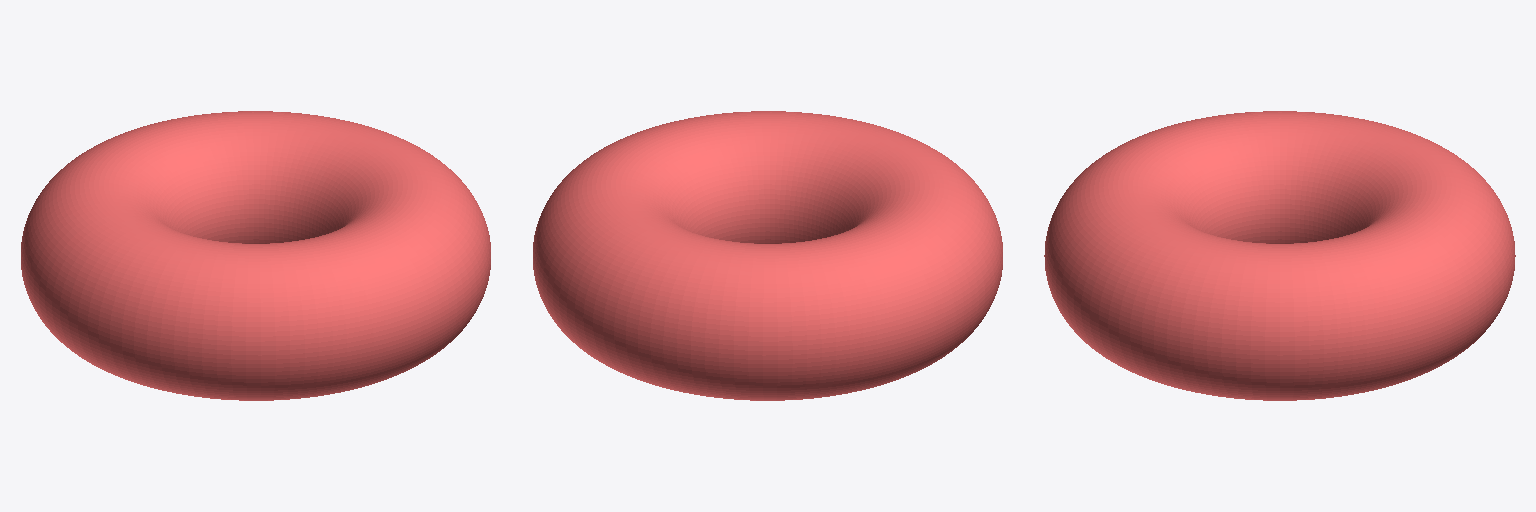
The model's file is donut_red_lambert_20000_tris_TRIANGLULATED.obj.
The picture shows the model from 3 angles: view 1: azimuth 30°, elevation 25°; view 2: azimuth 150°, elevation 25°; view 3: azimuth 270°, elevation 25°; orthographic projection.
Visible parts, largest first — view 1: pTorus1; view 2: pTorus1; view 3: pTorus1.
Part boxes in pixels (bbox=[...]): pTorus1: bbox=[21, 111, 490, 400]; pTorus1: bbox=[533, 111, 1002, 400]; pTorus1: bbox=[1044, 111, 1515, 400].
Size of the model in its own units: 3 by 1 by 3.